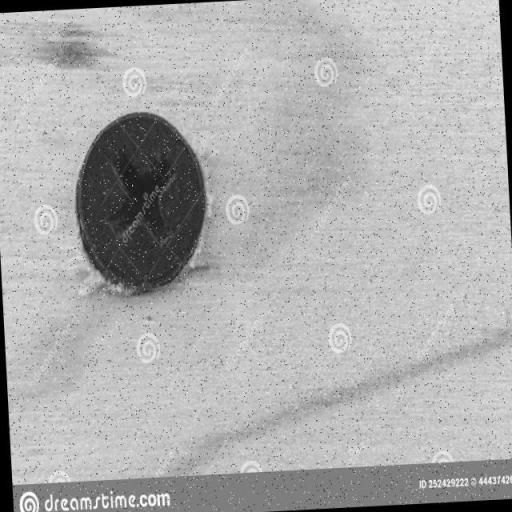Phillips: (60, 99, 216, 303)
